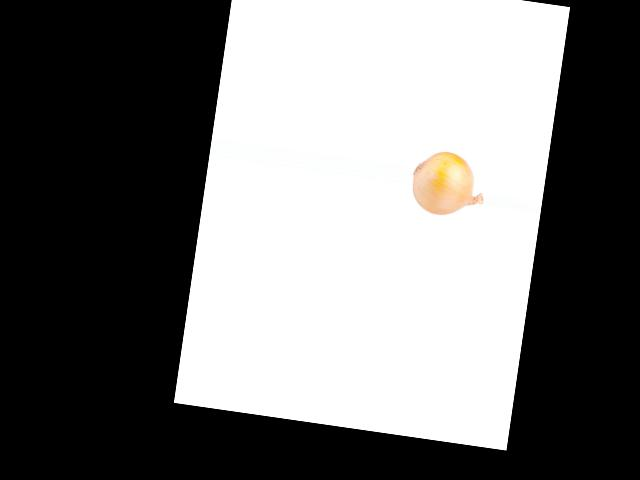onion: (409, 147, 480, 221)
